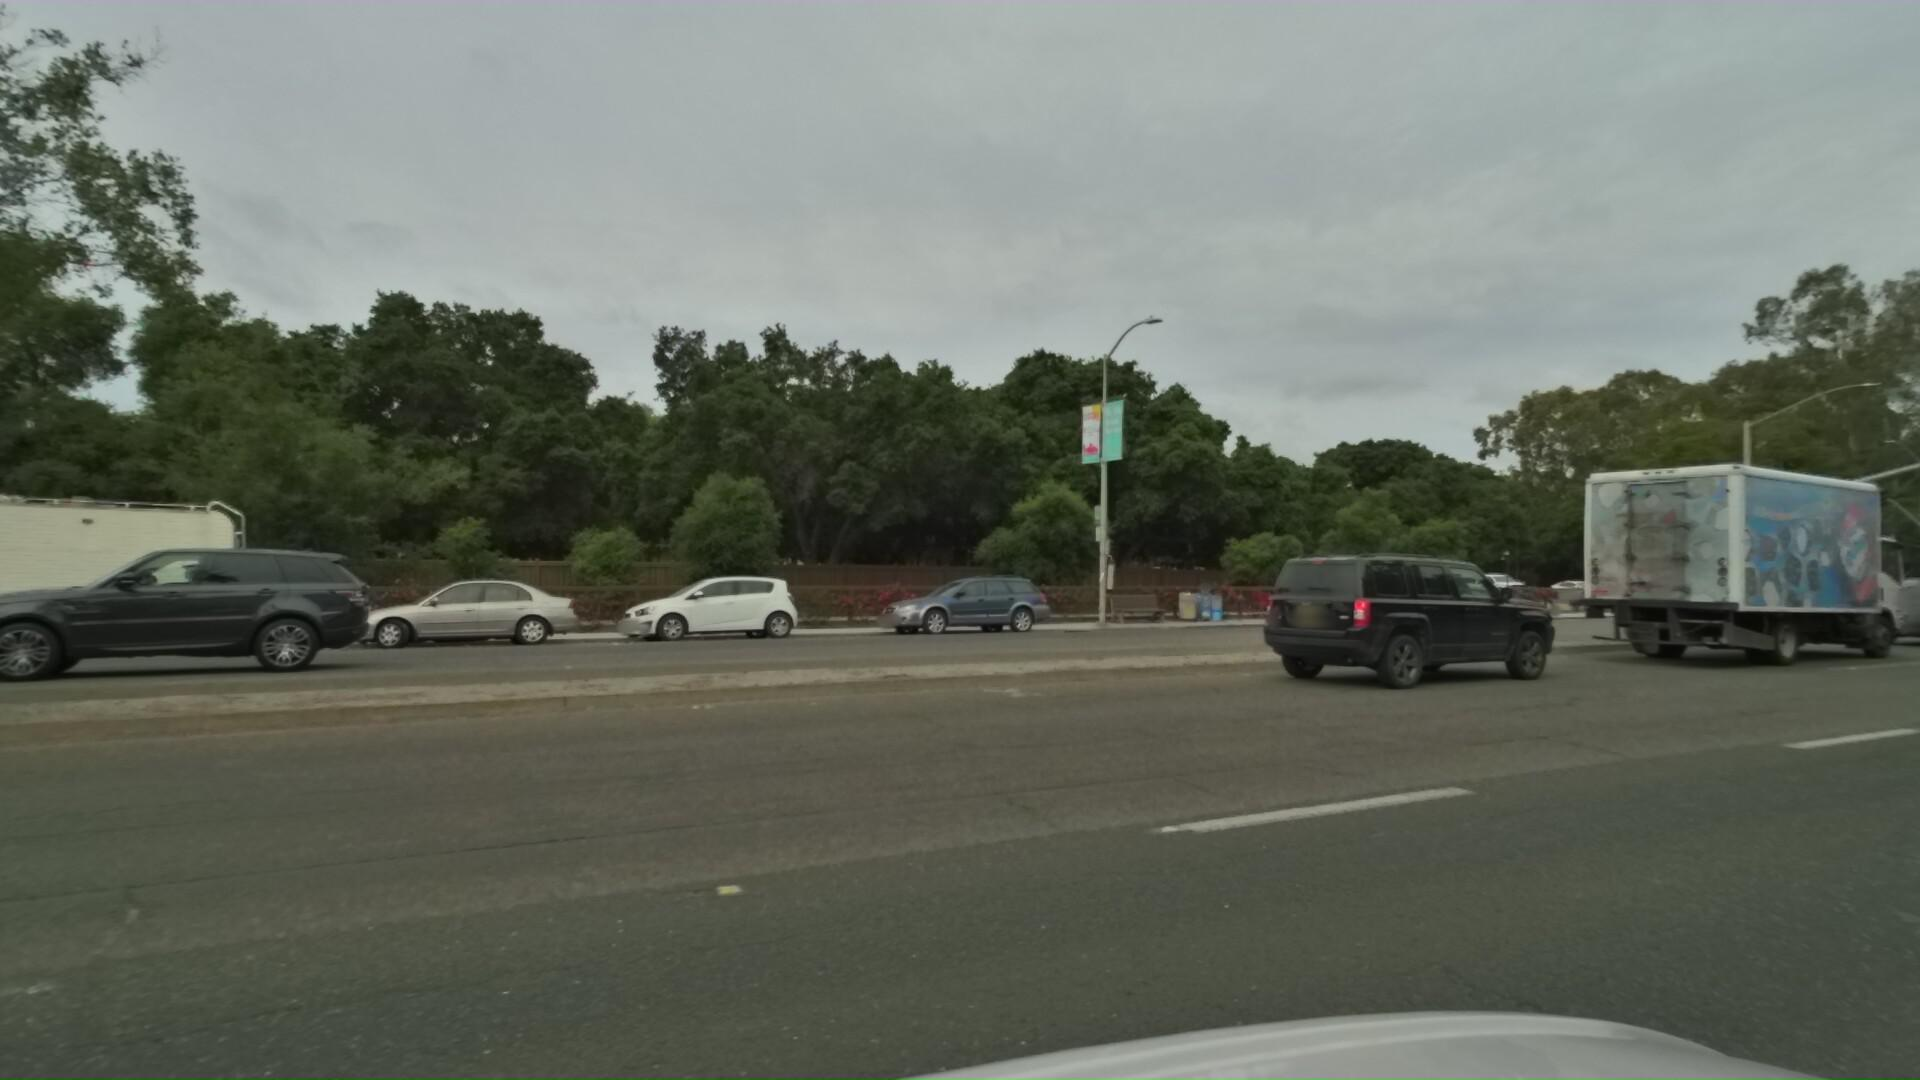car: (1212, 541, 1560, 698), (0, 534, 297, 684), (305, 574, 564, 647), (580, 564, 790, 644), (844, 567, 1046, 638), (1846, 567, 1920, 645), (1863, 564, 1920, 620)
other_vehicle: (0, 459, 232, 683)
truck: (1538, 440, 1920, 670)
